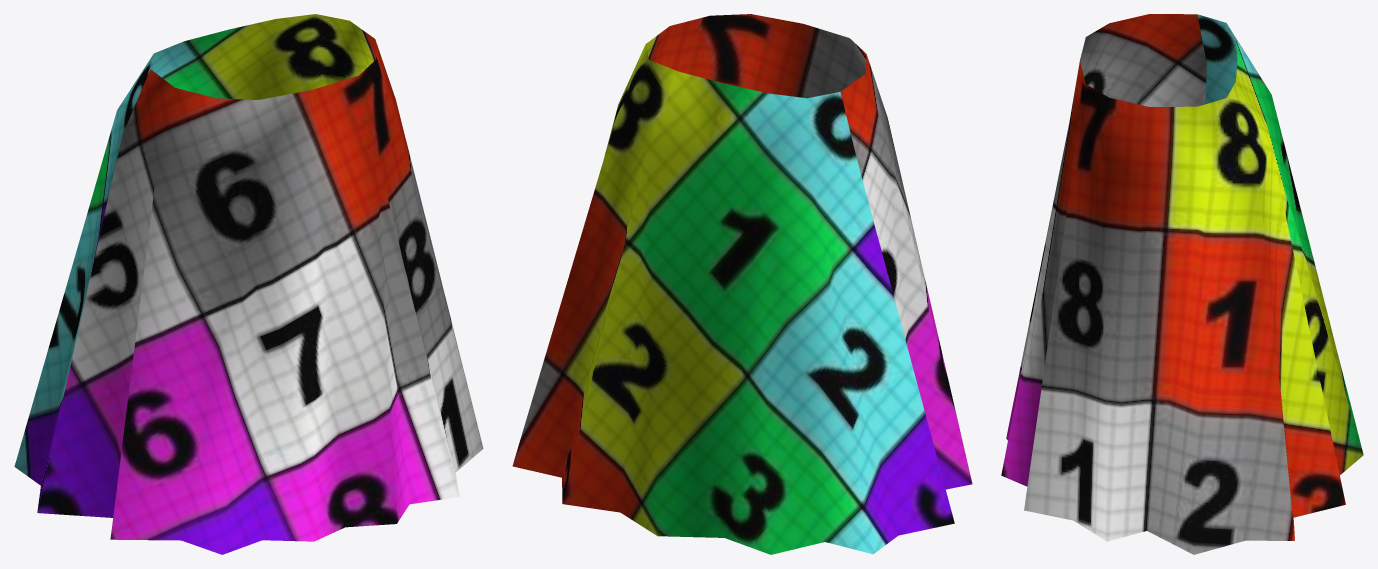
File: 8_Skirt.glb
3 renders of one model, left to right at view 1: azimuth 30°, elevation 25°; view 2: azimuth 150°, elevation 25°; view 3: azimuth 270°, elevation 25°, orthographic. The views are drawn at different scales.
Visible parts, largest first — view 1: Skirt; view 2: Skirt; view 3: Skirt.
Part boxes in pixels (x1,y1,x2,y2): Skirt: (14,14,483,554); Skirt: (512,14,972,554); Skirt: (1001,14,1363,554).
Bounding box in the file's own units: 0.5425 × 0.5006 × 0.4165.
Materials: 1 (1 with a texture image).
